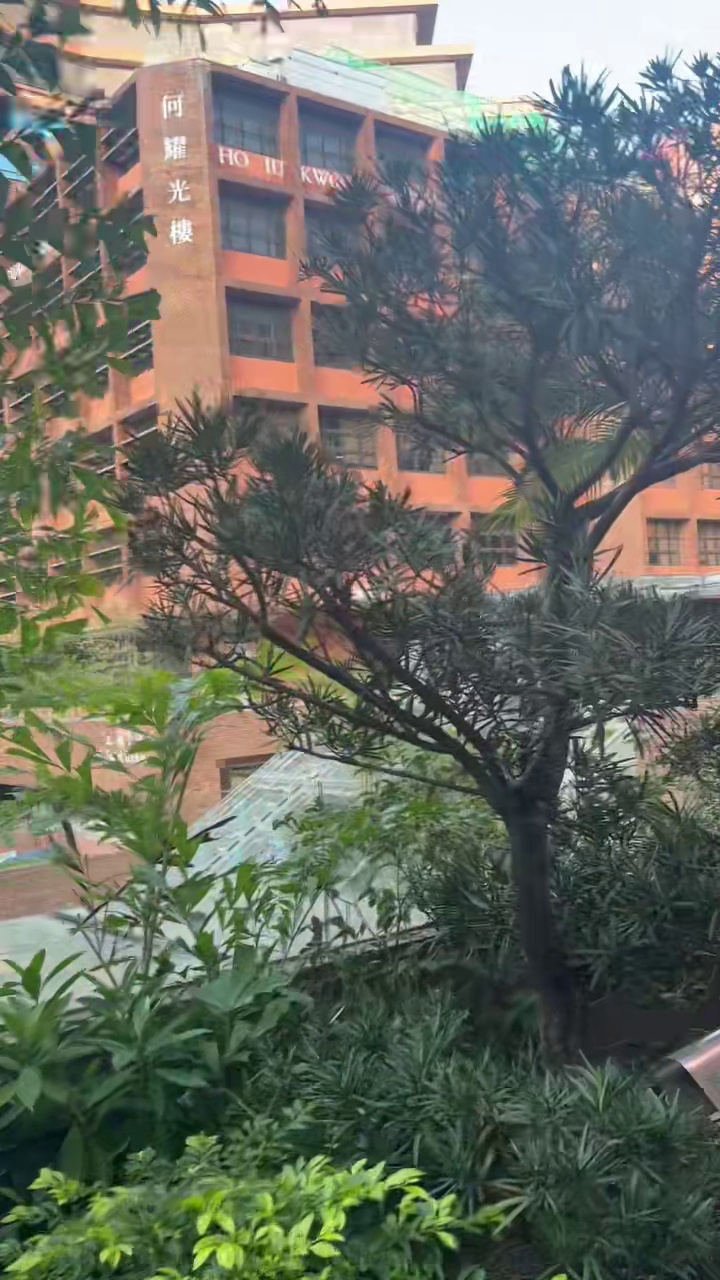Podocarpus macrophyllus: (133, 58, 719, 1048)
